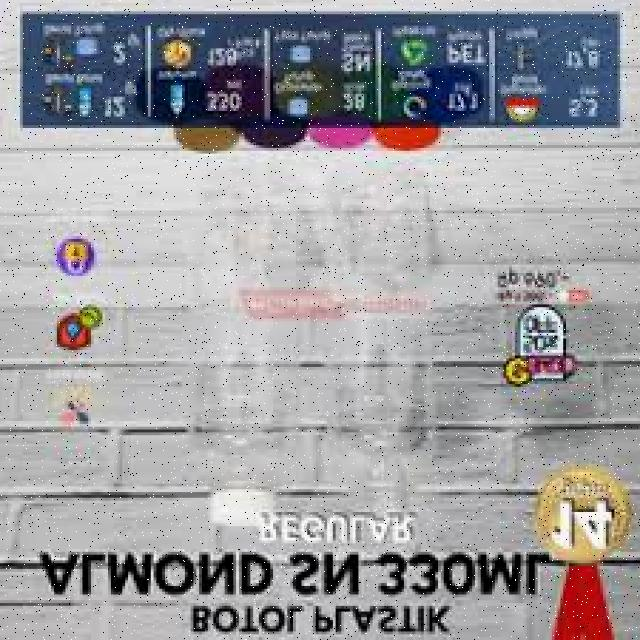bottle: (182, 178, 303, 545), (324, 168, 440, 516)
cap: (210, 488, 272, 526)
